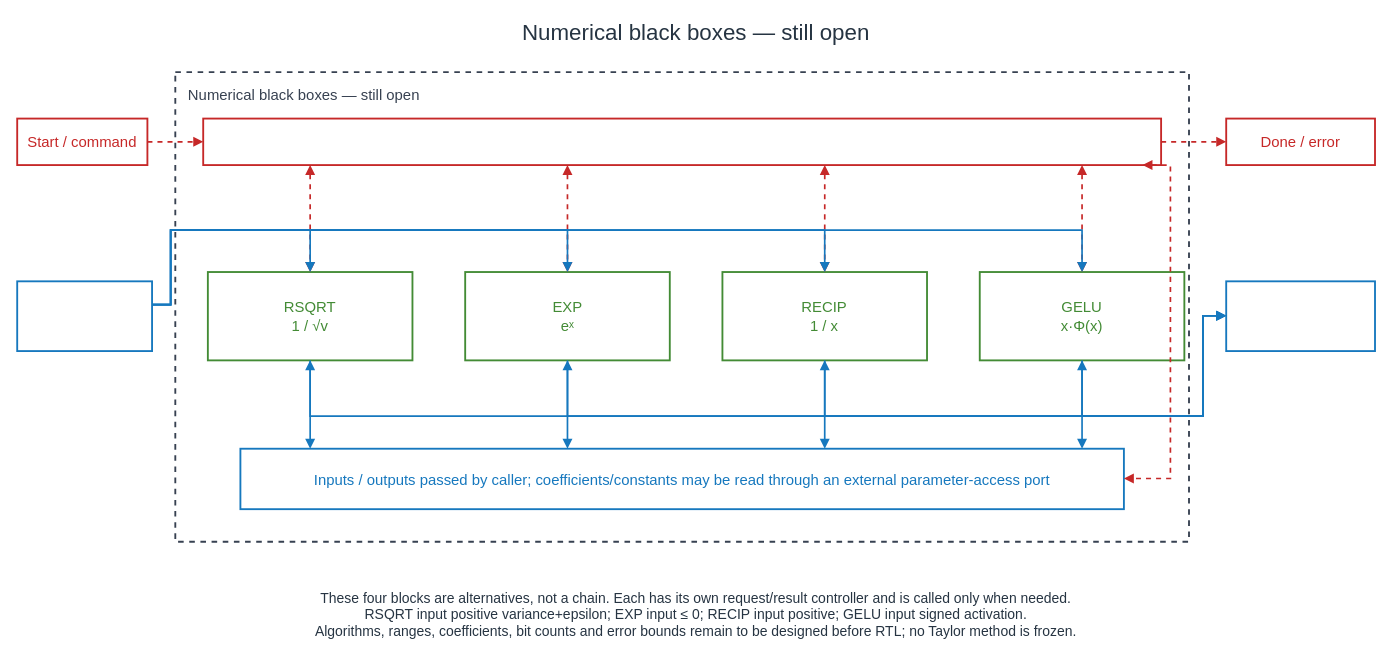
Some shapes in this 1391 by 669 pixel diagram are drawn without their labels. The shapes that lost their labels are listed below. From the top down, each one's centre as x and y in pixels, then its label:
the point at 682,141: Selected black-box controller — common interface, algorithm still open
the point at 84,316: Selected request
the point at 1300,316: Selected result
